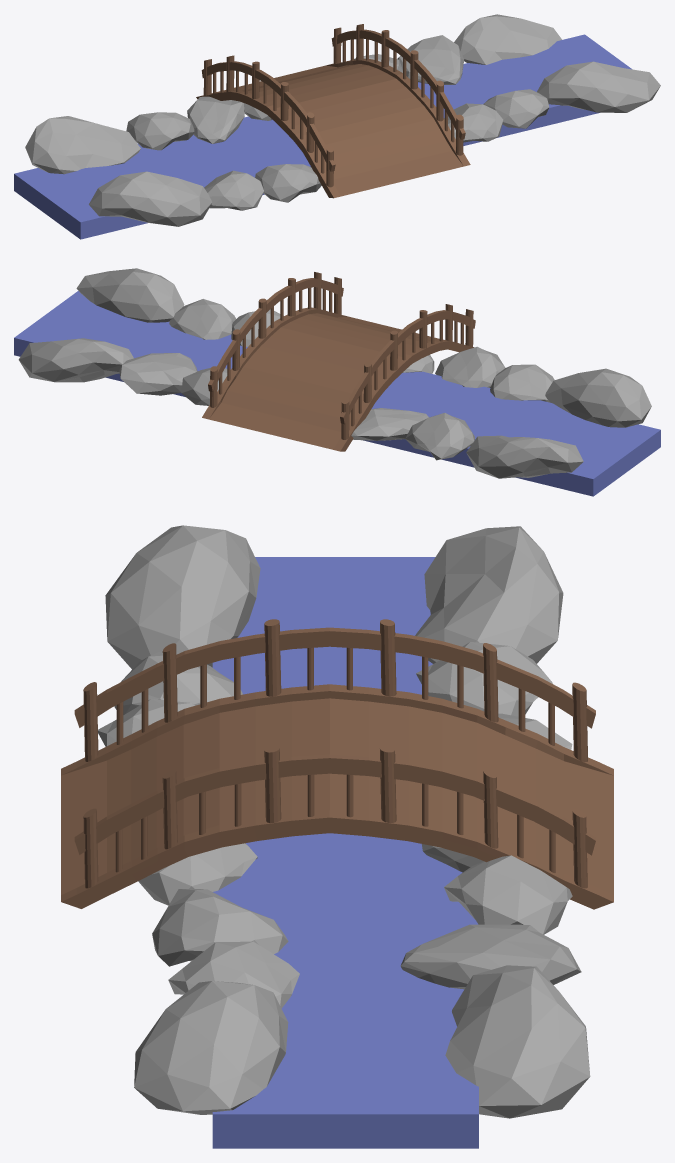
The model's file is NOSE.fbx.
The picture shows the model from 3 angles, top to bottom: view 1: azimuth 30°, elevation 25°; view 2: azimuth 150°, elevation 25°; view 3: azimuth 270°, elevation 25°; orthographic projection. The views are drawn at different scales.
Parts seen in each view (by area): view 1: Cylinder.001, Icosphere.001, Cube, Icosphere; view 2: Cylinder.001, Cube, Icosphere.001, Icosphere; view 3: Cylinder.001, Cube, Icosphere.001, Icosphere.
Part boxes in pixels (left/top/right/bottom): Cylinder.001: left=196, top=24, right=470, bottom=198; Icosphere.001: left=25, top=14, right=660, bottom=226; Cube: left=14, top=34, right=632, bottom=239; Icosphere: left=126, top=35, right=549, bottom=210; Cylinder.001: left=202, top=272, right=475, bottom=451; Cube: left=14, top=291, right=660, bottom=496; Icosphere.001: left=18, top=268, right=651, bottom=478; Icosphere: left=119, top=299, right=554, bottom=460; Cylinder.001: left=61, top=619, right=613, bottom=909; Cube: left=212, top=557, right=478, bottom=1148; Icosphere.001: left=105, top=525, right=590, bottom=1118; Icosphere: left=98, top=642, right=581, bottom=1008.
Size of the model in its own units: 839 by 133 by 351.
